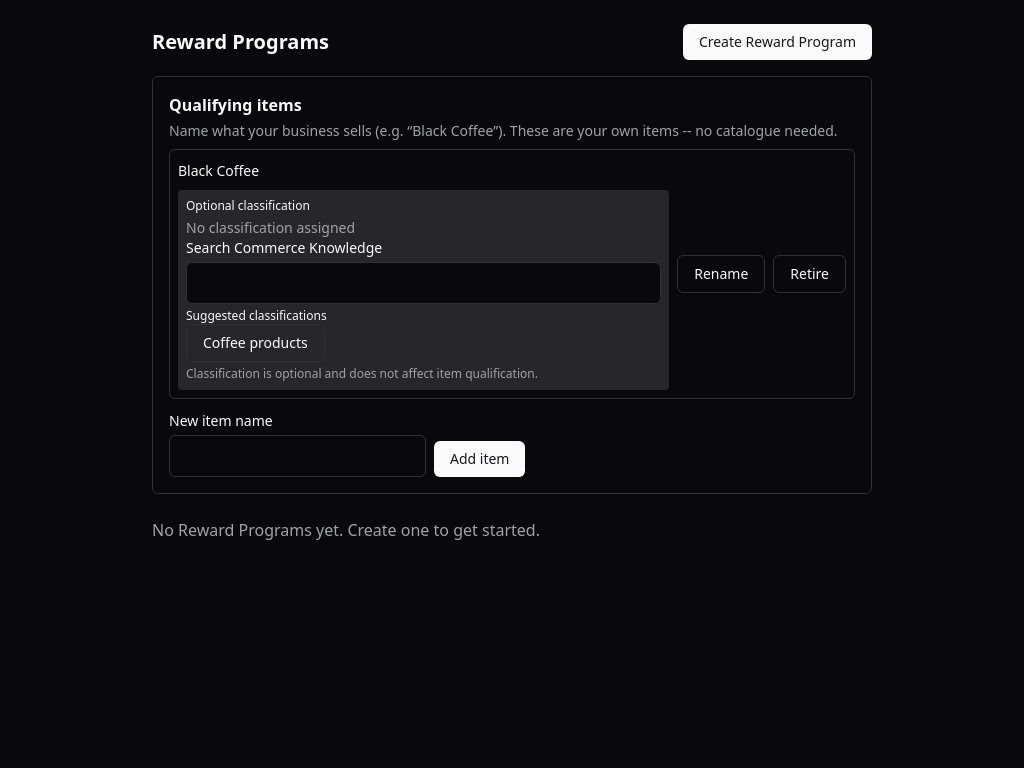
Scenario: RewardProgramManagementPage (PLATFORM-BASELINE-005A) › PLATFORM-BASELINE-013B: Business-owned qualifying-item selection › excludes retired items from new selection (active-only list)
The image size is (1024, 768).
Step 1. Click the button "Create Reward Program" → (777, 42), box [683,24,872,60]
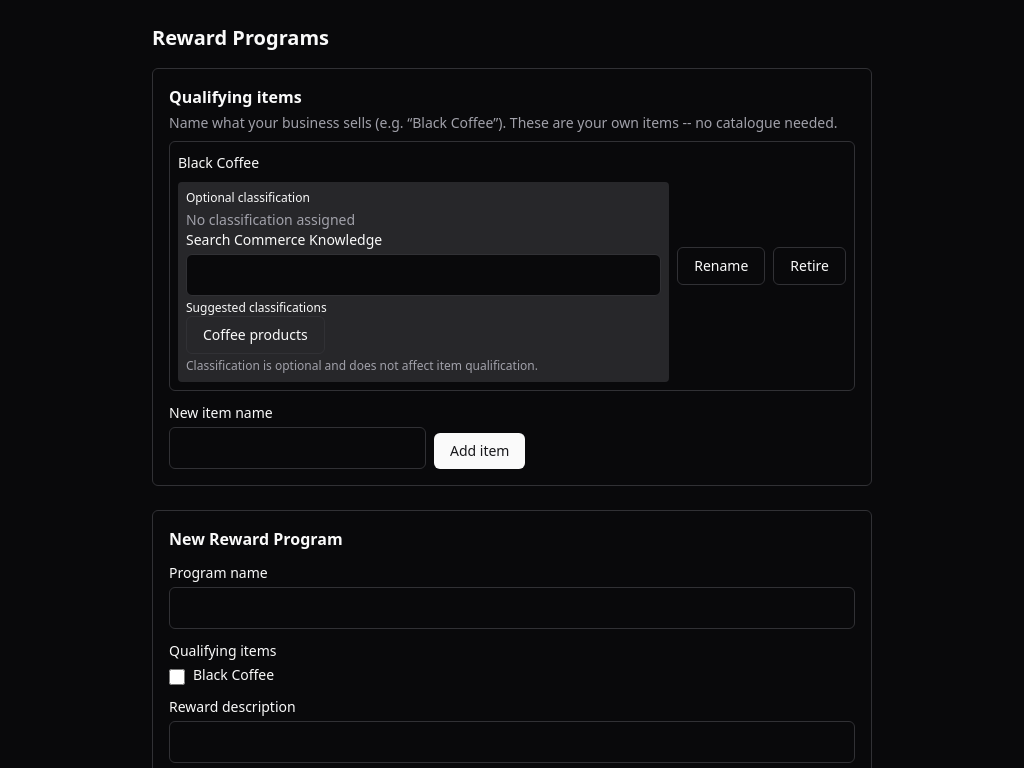
Expected: the checkbox labelled "Black Coffee" is shown, [169,669,185,685]
